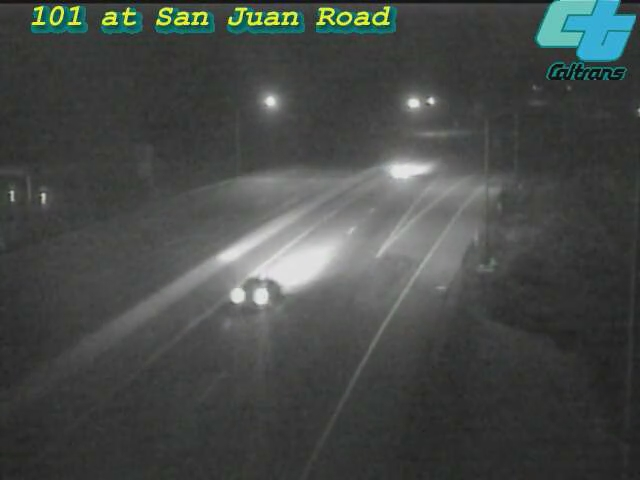vehicle: (361, 130, 441, 210), (216, 254, 296, 334)
